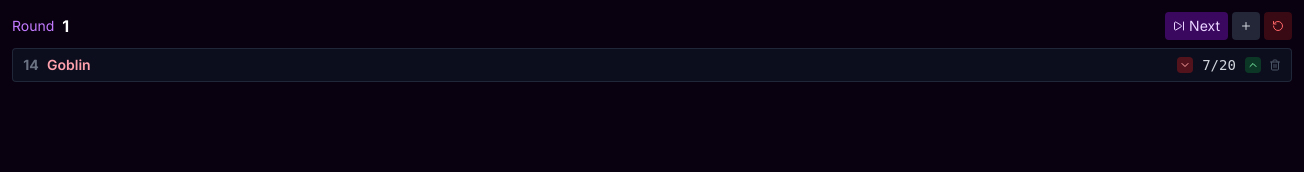
it: InitiativeWidget manual HP entry › replaces the readout with a pre-filled, selected number field on click
Click the button "7/20" at (1219, 65), box [1195,55,1243,75]
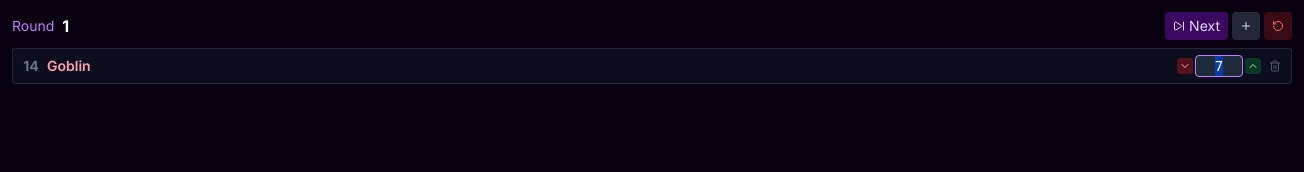
Now the field named "Set HP for Goblin" holds "7", box [1195,55,1243,77]
